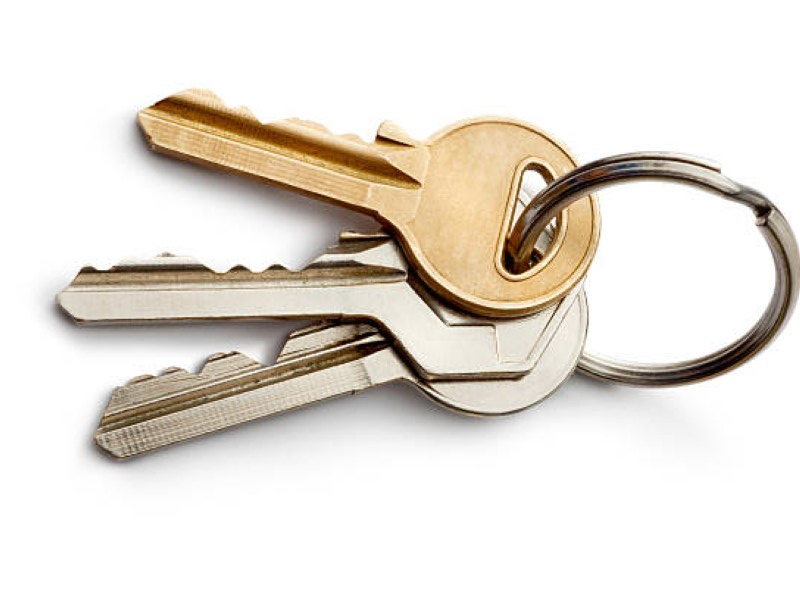key: (131, 74, 608, 313), (82, 287, 597, 469), (57, 217, 530, 333)
